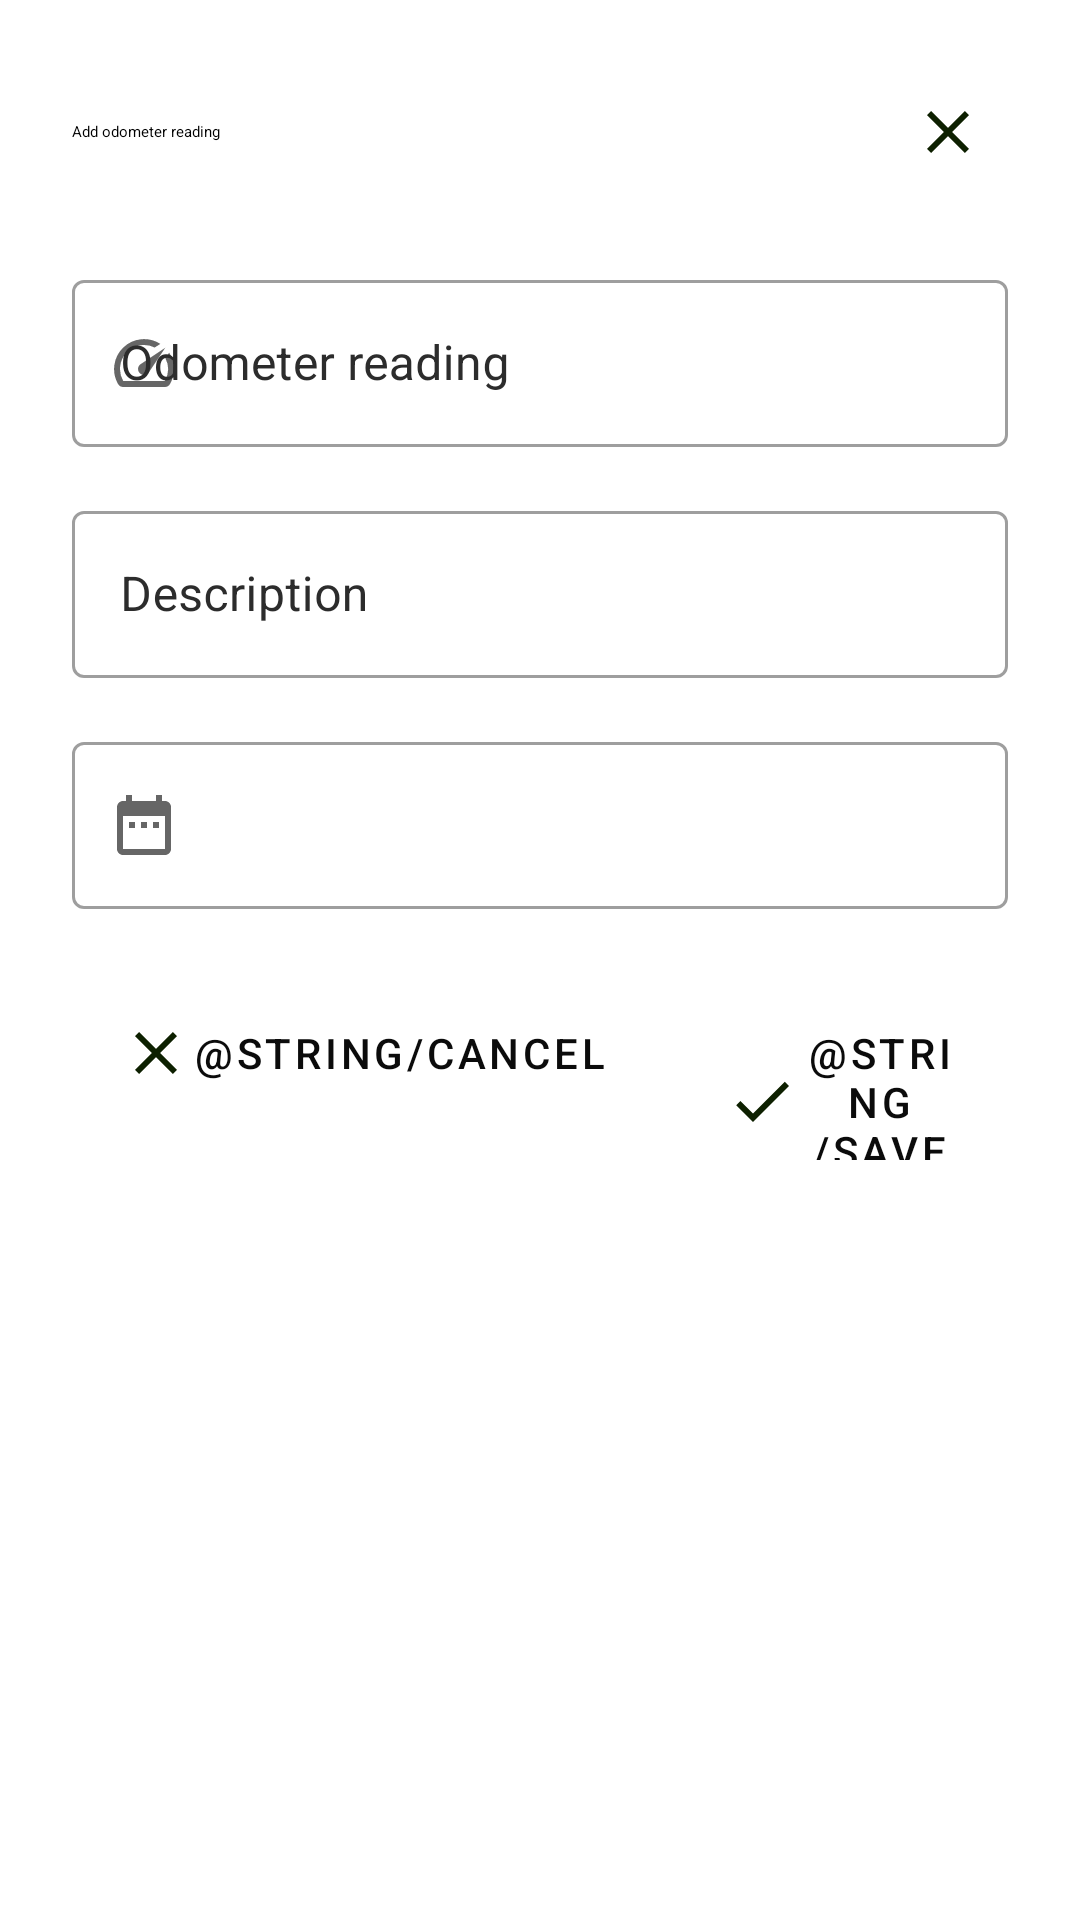

Named icons in this screenshot (1080*1920) and their centers, point (x, y):
close: point (948, 132)
